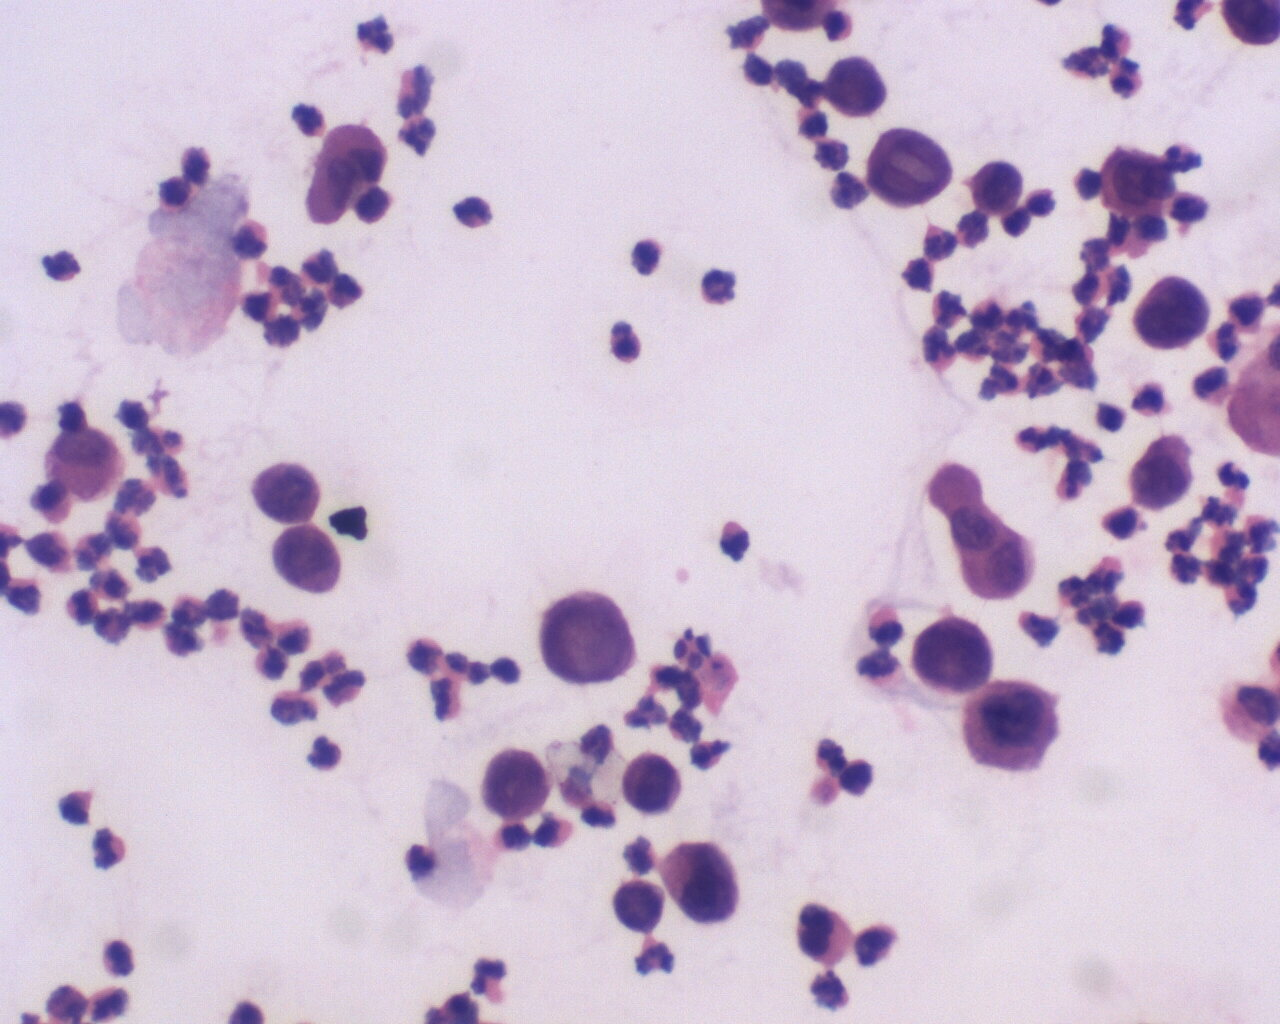ab: (538, 580, 646, 689), (967, 677, 1058, 775), (664, 836, 743, 939), (866, 124, 954, 213), (907, 606, 993, 695), (1133, 267, 1219, 354), (1126, 422, 1198, 516), (471, 746, 555, 825), (267, 523, 346, 605), (1095, 142, 1176, 215), (827, 50, 899, 126), (246, 459, 323, 526), (963, 153, 1025, 220), (621, 750, 684, 815), (611, 876, 670, 935)
meso: (43, 422, 126, 505)
neutro: (447, 189, 501, 233), (465, 953, 512, 1001), (600, 315, 643, 366), (89, 827, 133, 875), (716, 515, 758, 563)
